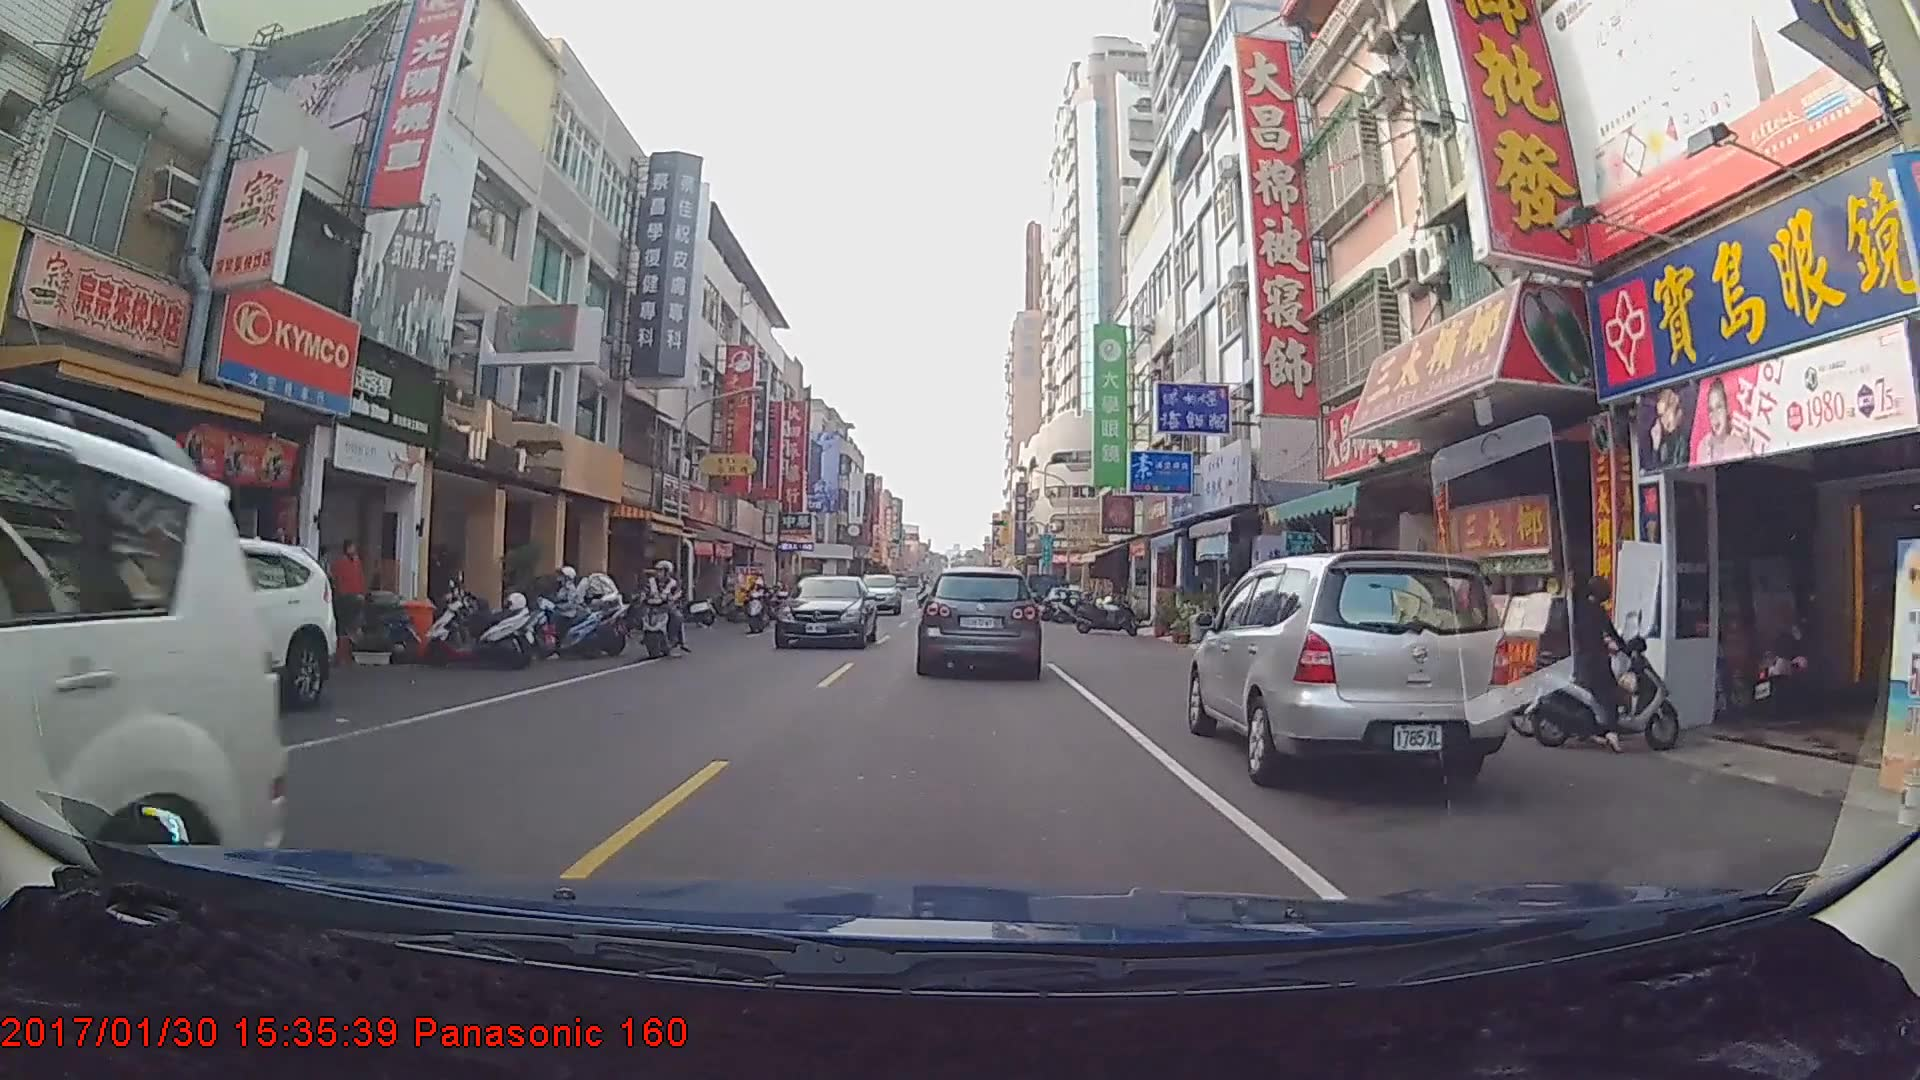pedestrian: (330, 534, 373, 636)
rider: (1520, 573, 1686, 761), (631, 555, 697, 660), (747, 577, 776, 631)
vehicle: (0, 396, 288, 1056), (1187, 551, 1510, 788), (61, 536, 337, 719), (919, 567, 1039, 675), (773, 574, 877, 651), (852, 572, 902, 614)
